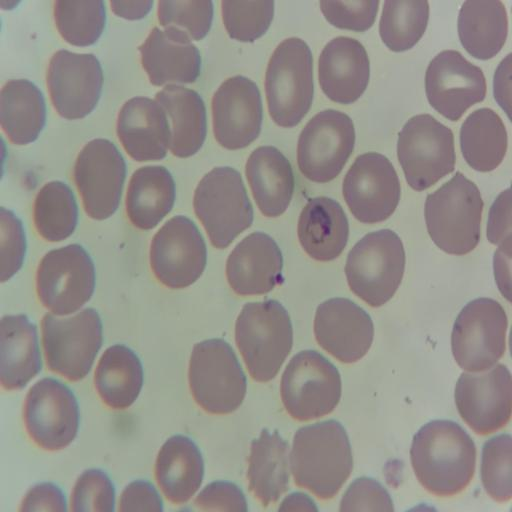Infected: (296, 196, 350, 260)
Uninfected: (192, 166, 254, 247), (287, 420, 351, 498), (233, 300, 291, 380), (423, 174, 481, 253), (263, 37, 315, 125), (345, 230, 405, 305), (187, 339, 247, 413), (279, 351, 342, 421), (72, 138, 127, 218), (39, 307, 100, 379), (149, 215, 209, 288), (410, 422, 471, 493), (298, 108, 354, 184), (424, 50, 485, 119), (396, 115, 454, 187), (36, 244, 95, 314), (342, 153, 400, 223), (450, 299, 505, 372), (312, 298, 372, 364), (46, 49, 102, 119), (139, 26, 202, 88), (210, 77, 263, 149), (156, 85, 207, 158), (224, 231, 282, 295), (23, 380, 78, 447), (316, 37, 369, 105), (455, 363, 508, 431), (244, 145, 293, 216), (117, 97, 169, 160), (246, 429, 289, 505), (154, 436, 202, 502), (124, 165, 175, 227), (459, 107, 506, 173), (94, 345, 142, 408), (1, 79, 46, 145), (33, 180, 79, 242), (0, 315, 39, 388), (457, 1, 505, 58), (54, 0, 106, 47), (379, 1, 428, 50), (222, 2, 274, 42), (158, 2, 211, 41), (482, 433, 512, 497), (71, 471, 113, 512), (340, 479, 391, 512), (320, 1, 376, 31), (193, 483, 244, 512), (117, 481, 161, 512)
